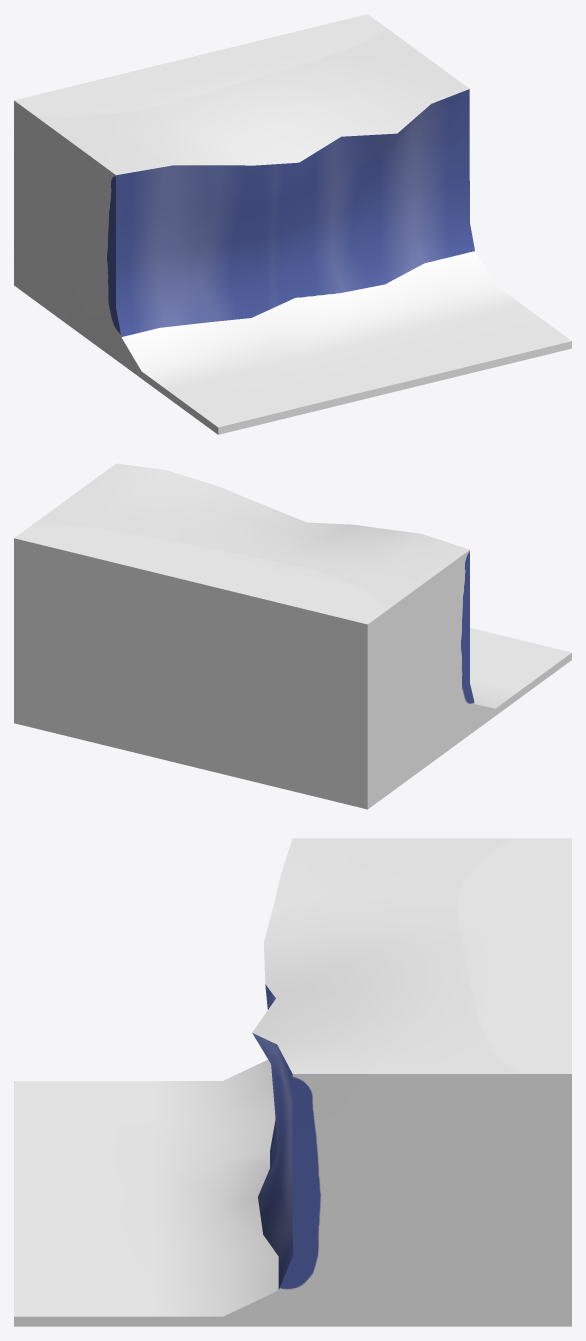
File: wall_straight_2_1.glb
3 renders of one model, top to bottom at view 1: azimuth 30°, elevation 25°; view 2: azimuth 150°, elevation 25°; view 3: azimuth 270°, elevation 25°, orthographic. The views are drawn at different scales.
Visible parts, largest first — view 1: wall_straight_2.001; view 2: wall_straight_2.001; view 3: wall_straight_2.001.
Part boxes in pixels (x1,y1,x2,y2): wall_straight_2.001: (14, 14, 571, 434); wall_straight_2.001: (14, 463, 571, 809); wall_straight_2.001: (14, 838, 571, 1326).
Bounding box in the file's own units: 2 × 1 × 2.
Materials: 1 (1 with a texture image).
